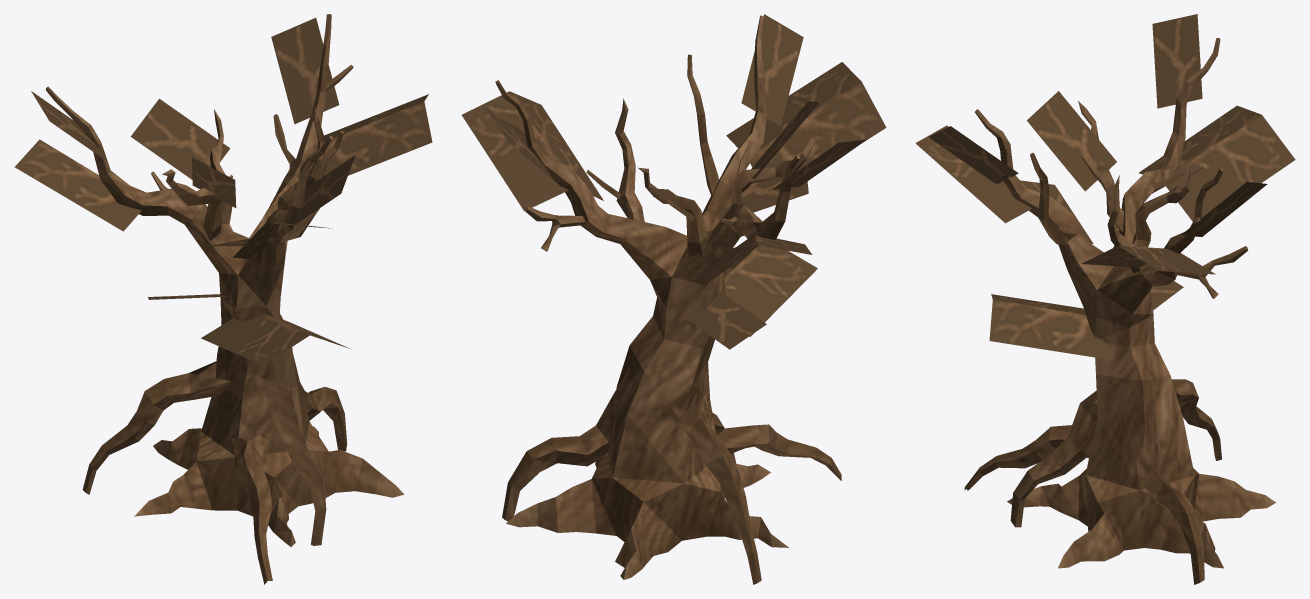
File: new_tree_001.FBX
The picture shows the model from 3 angles, left to right: view 1: azimuth 30°, elevation 25°; view 2: azimuth 150°, elevation 25°; view 3: azimuth 270°, elevation 25°; orthographic projection. The views are drawn at different scales.
Parts seen in each view (by area): view 1: new_tree_001; view 2: new_tree_001; view 3: new_tree_001.
Part boxes in pixels (<box>): new_tree_001: <box>14,14,432,584</box>; new_tree_001: <box>462,14,886,584</box>; new_tree_001: <box>915,14,1295,584</box>.
Bounding box in the file's own units: 117 × 128 × 104.
Materials: 1 (1 with a texture image).
